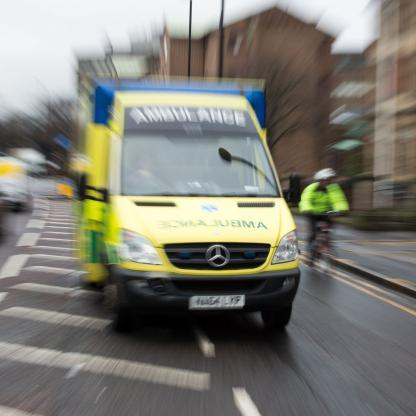Ambulance - v1 Ambulance last generate: (86, 74, 308, 344)
